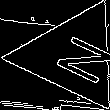N_NW: (36, 27, 108, 86)
